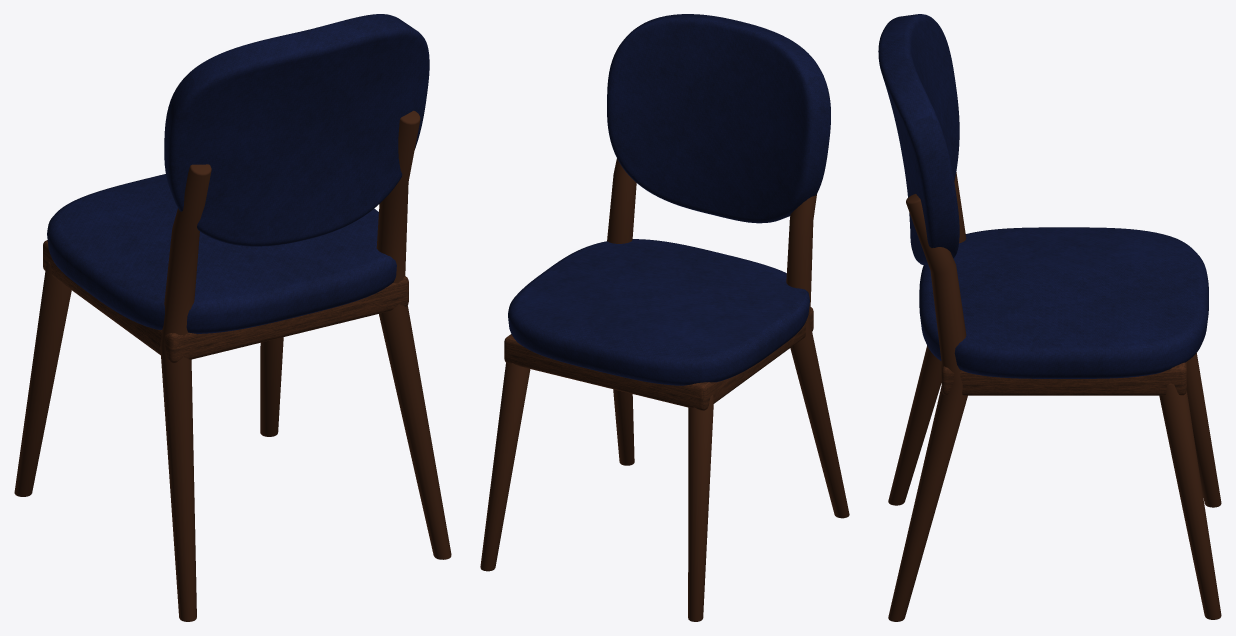
File: chair_navy.glb
3 renders of one model, left to right at view 1: azimuth 30°, elevation 25°; view 2: azimuth 150°, elevation 25°; view 3: azimuth 270°, elevation 25°, orthographic. The views are drawn at different scales.
Visible parts, largest first — view 1: chair_navy; view 2: chair_navy; view 3: chair_navy.
Boxes of the visible parts, x1,y1,x2,y2 form: chair_navy: (14,14,451,621); chair_navy: (480,14,849,621); chair_navy: (878,14,1221,621).
Bounding box in the file's own units: 0.4514 × 0.8529 × 0.5107.
Materials: 2 (2 with a texture image).
